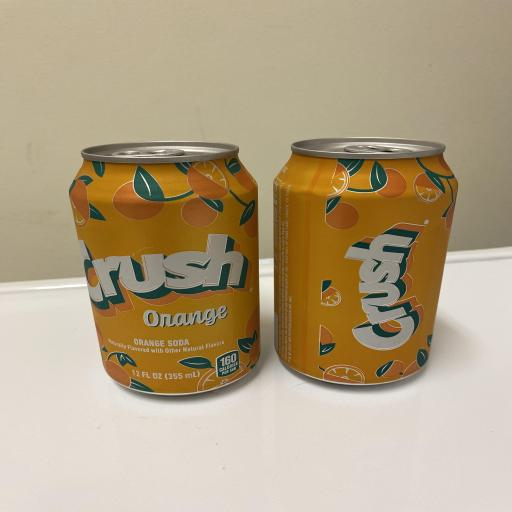can: (71, 140, 265, 397), (272, 135, 462, 390)
